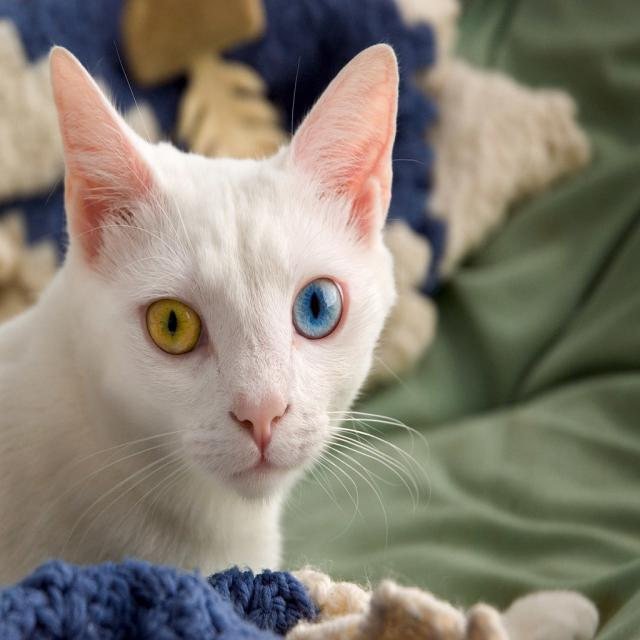Cat: (0, 40, 431, 585)
